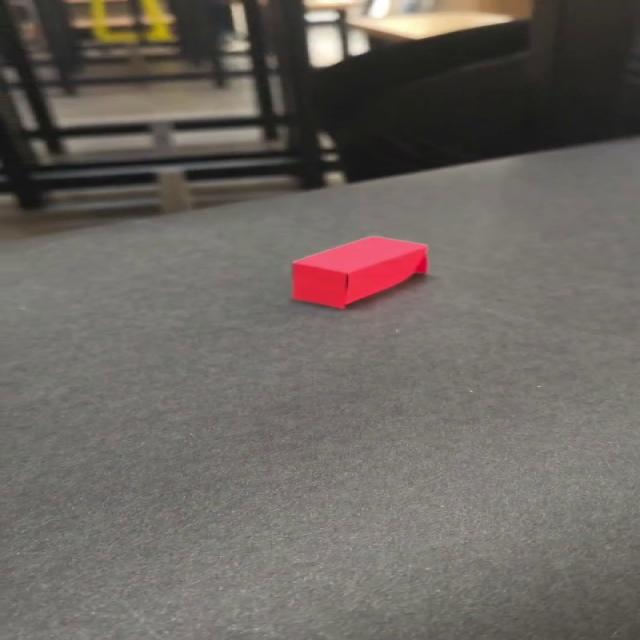red block: (290, 235, 430, 309)
